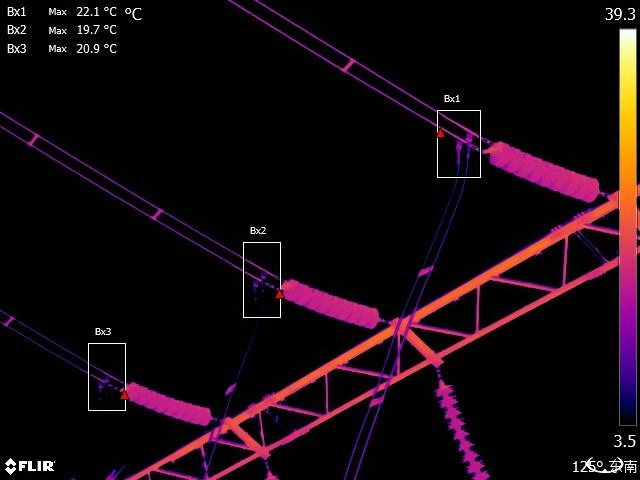clamp: (451, 121, 479, 158), (91, 361, 118, 399), (246, 265, 272, 298)
insulator: (486, 131, 602, 208), (278, 269, 381, 331), (121, 374, 210, 436), (434, 378, 488, 480)
